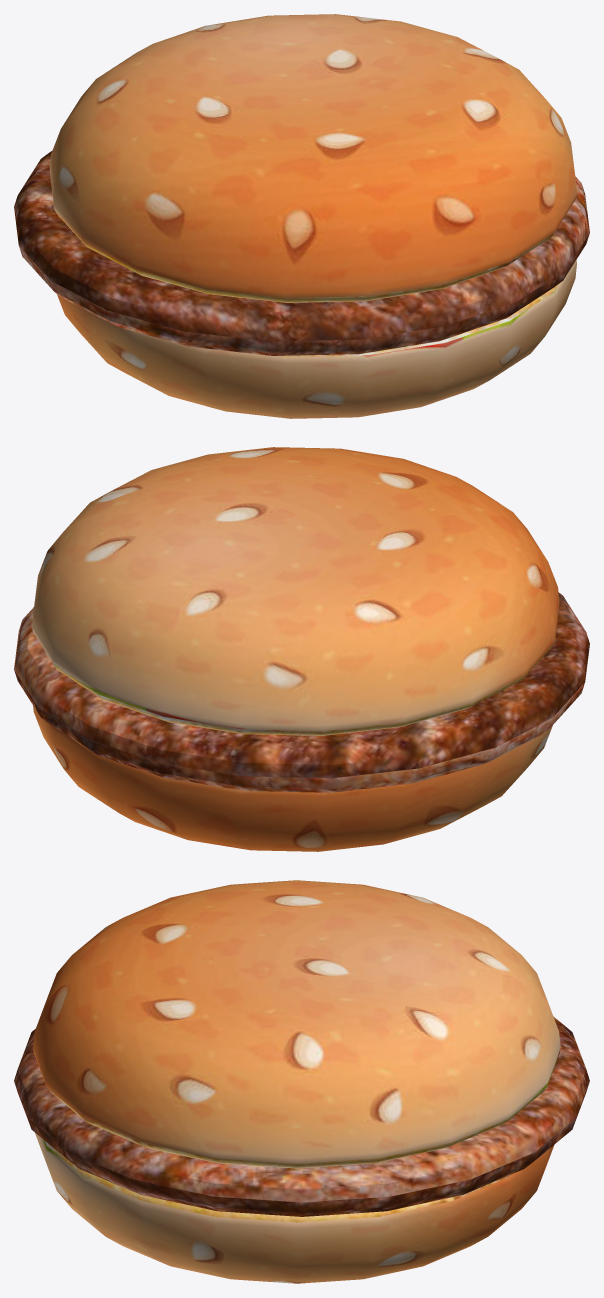
File: Stack_Burger.fbx
3 renders of one model, top to bottom at view 1: azimuth 30°, elevation 25°; view 2: azimuth 150°, elevation 25°; view 3: azimuth 270°, elevation 25°, orthographic.
Visible parts, largest first — view 1: pSphere8; view 2: pSphere8; view 3: pSphere8.
Part boxes in pixels (box(x1,y1,x2,y2)): pSphere8: box(14, 14, 589, 418); pSphere8: box(14, 447, 589, 851); pSphere8: box(14, 880, 589, 1283).
Bounding box in the file's own units: 6.51 × 3.37 × 6.51.
